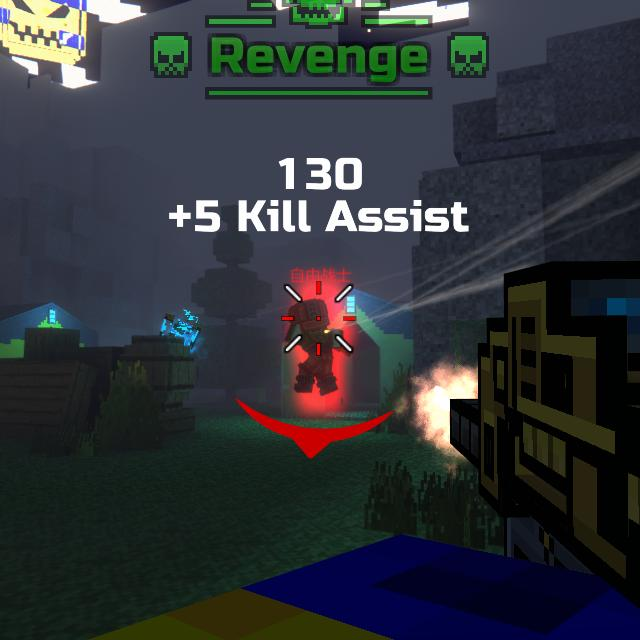Enemy: (289, 299, 346, 397)
